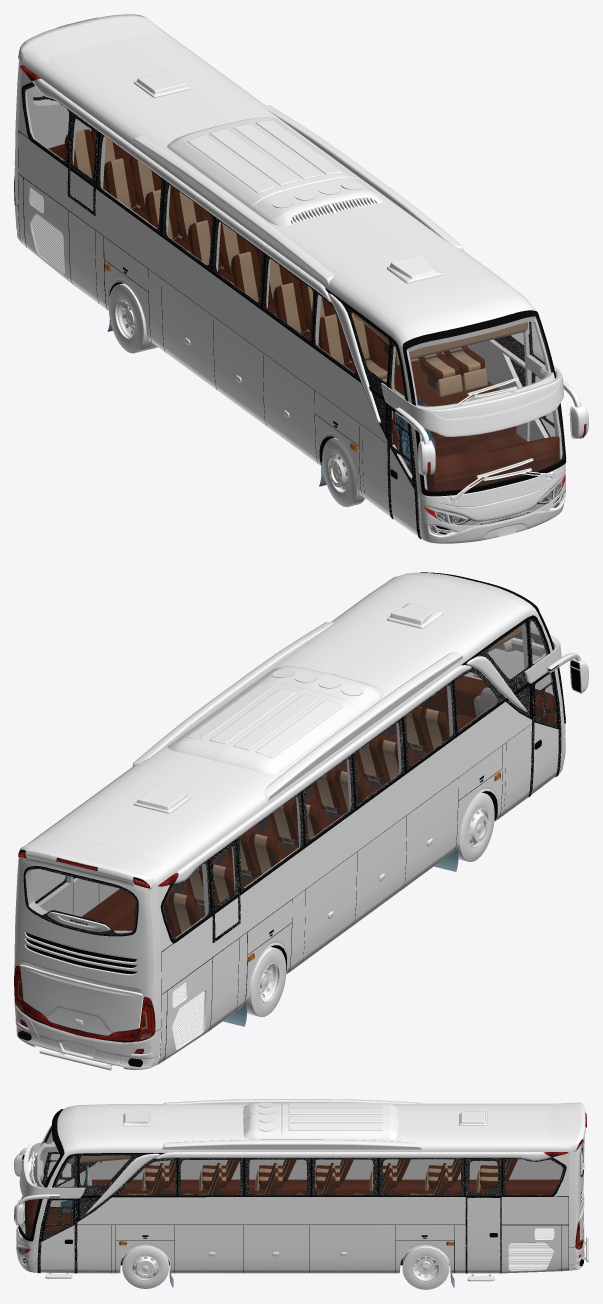
File: indonesian_bus_adiputro_jetbus.glb
The picture shows the model from 3 angles, top to bottom: view 1: azimuth 30°, elevation 25°; view 2: azimuth 150°, elevation 25°; view 3: azimuth 270°, elevation 25°; orthographic projection. The views are drawn at different scales.
Parts seen in each view (by area): view 1: Object_2, Object_7, Object_15, Object_9, Object_12, Object_4, Object_8, Object_6, Object_13, Object_14, Object_5, Object_11; view 2: Object_2, Object_7, Object_9, Object_12, Object_15, Object_4, Object_8, Object_6, Object_13, Object_5, Object_14; view 3: Object_2, Object_7, Object_9, Object_15, Object_12, Object_4, Object_8, Object_13, Object_5, Object_14, Object_6.
Boxes of the visible parts, bbox=[...] form: Object_2: bbox=[14, 14, 588, 543]; Object_7: bbox=[23, 84, 564, 491]; Object_15: bbox=[64, 129, 487, 396]; Object_9: bbox=[15, 82, 566, 539]; Object_12: bbox=[167, 117, 383, 226]; Object_4: bbox=[48, 144, 559, 494]; Object_8: bbox=[108, 283, 364, 507]; Object_6: bbox=[14, 17, 586, 532]; Object_13: bbox=[24, 84, 554, 537]; Object_14: bbox=[143, 205, 527, 389]; Object_5: bbox=[115, 299, 348, 493]; Object_11: bbox=[450, 377, 554, 502]; Object_2: bbox=[14, 572, 588, 1069]; Object_7: bbox=[24, 618, 557, 939]; Object_9: bbox=[18, 572, 580, 1067]; Object_12: bbox=[167, 665, 383, 774]; Object_15: bbox=[163, 706, 449, 936]; Object_4: bbox=[82, 676, 555, 937]; Object_8: bbox=[247, 792, 494, 1017]; Object_6: bbox=[14, 733, 565, 1053]; Object_13: bbox=[24, 620, 560, 1070]; Object_5: bbox=[259, 807, 488, 1002]; Object_14: bbox=[173, 625, 522, 937]; Object_2: bbox=[14, 1099, 585, 1273]; Object_7: bbox=[20, 1124, 584, 1239]; Object_9: bbox=[18, 1109, 583, 1273]; Object_15: bbox=[126, 1159, 517, 1194]; Object_12: bbox=[243, 1102, 399, 1140]; Object_4: bbox=[25, 1179, 559, 1237]; Object_8: bbox=[122, 1246, 449, 1289]; Object_13: bbox=[37, 1152, 588, 1281]; Object_5: bbox=[132, 1255, 439, 1281]; Object_14: bbox=[68, 1155, 550, 1194]; Object_6: bbox=[14, 1112, 586, 1263].
Size of the model in its own units: 2.96 by 3.89 by 13.29.
12 materials, 5 textured.
